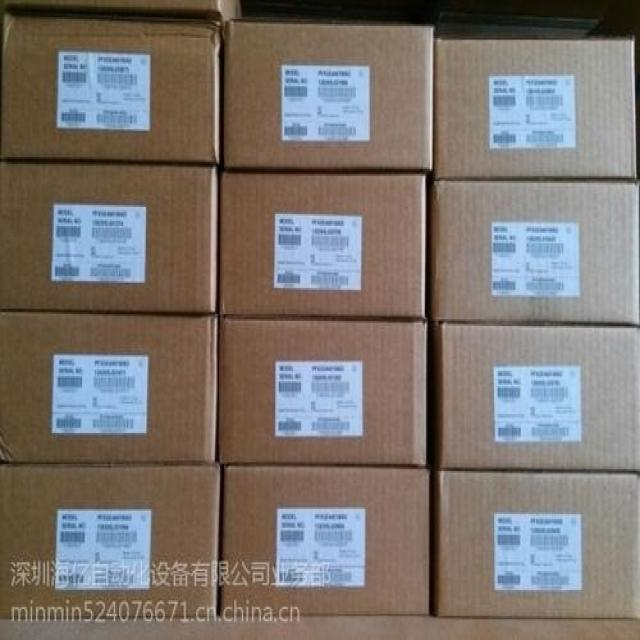box: (0, 462, 220, 623), (0, 160, 218, 314), (0, 16, 218, 167), (0, 314, 219, 463), (219, 466, 433, 615), (218, 24, 432, 171), (218, 321, 433, 467), (216, 170, 425, 319), (430, 180, 639, 326), (434, 471, 639, 619), (436, 323, 639, 471), (433, 41, 638, 179)
